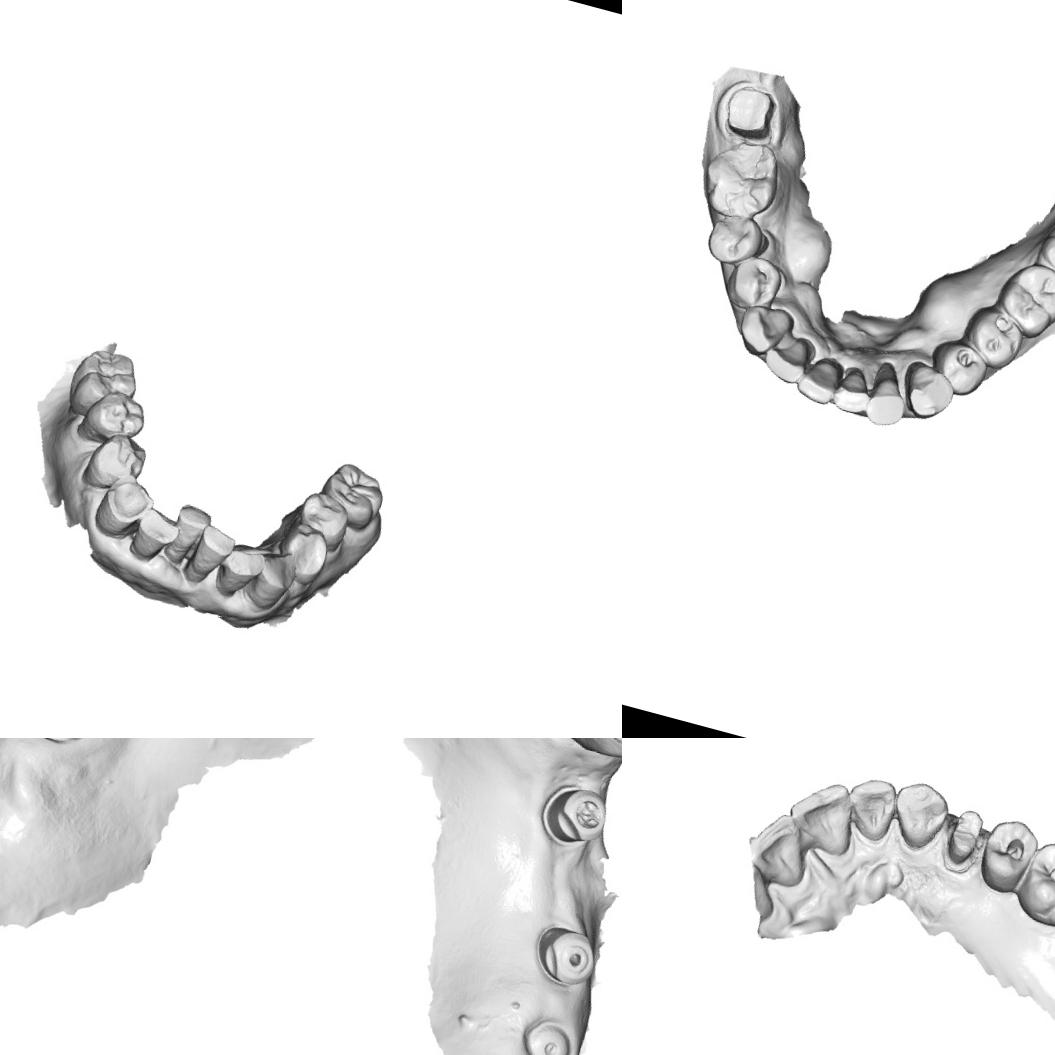canine: (882, 774, 956, 857), (89, 468, 160, 545), (894, 356, 964, 426), (728, 296, 796, 362), (244, 542, 300, 616)
crown: (714, 78, 782, 144), (938, 804, 988, 874)
implant: (535, 775, 616, 856), (526, 918, 605, 994), (518, 1011, 579, 1055)
incisor: (778, 771, 868, 861), (740, 804, 819, 892), (836, 769, 904, 846), (858, 359, 913, 430), (124, 501, 182, 564), (756, 328, 816, 388), (213, 536, 266, 602), (185, 519, 240, 582), (166, 500, 216, 564), (792, 350, 845, 408), (826, 366, 876, 420)
molar: (691, 128, 790, 230), (62, 341, 146, 429), (309, 455, 392, 538), (989, 254, 1055, 345), (1011, 833, 1055, 935), (1031, 208, 1055, 289)
premolar: (970, 809, 1044, 899), (76, 382, 151, 454), (81, 424, 152, 496), (960, 303, 1030, 374), (717, 246, 788, 316), (290, 486, 356, 558), (268, 520, 334, 590), (701, 207, 771, 273), (926, 334, 992, 404)
